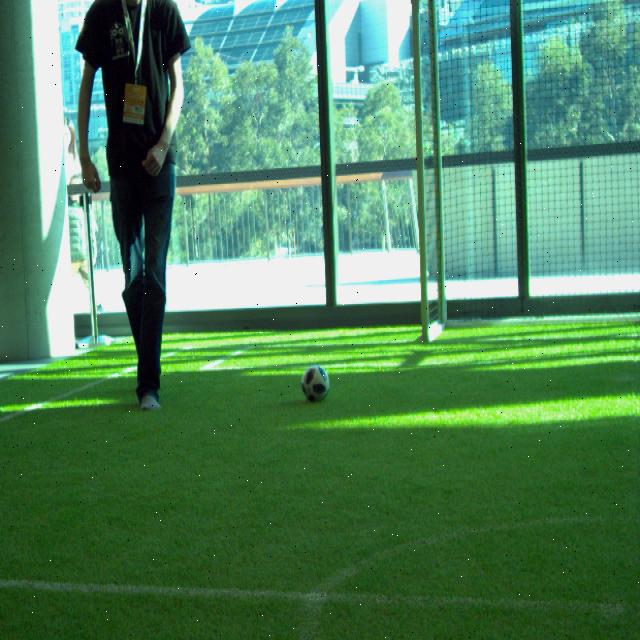ball: (302, 367, 331, 402)
goalpost: (411, 1, 429, 340)
